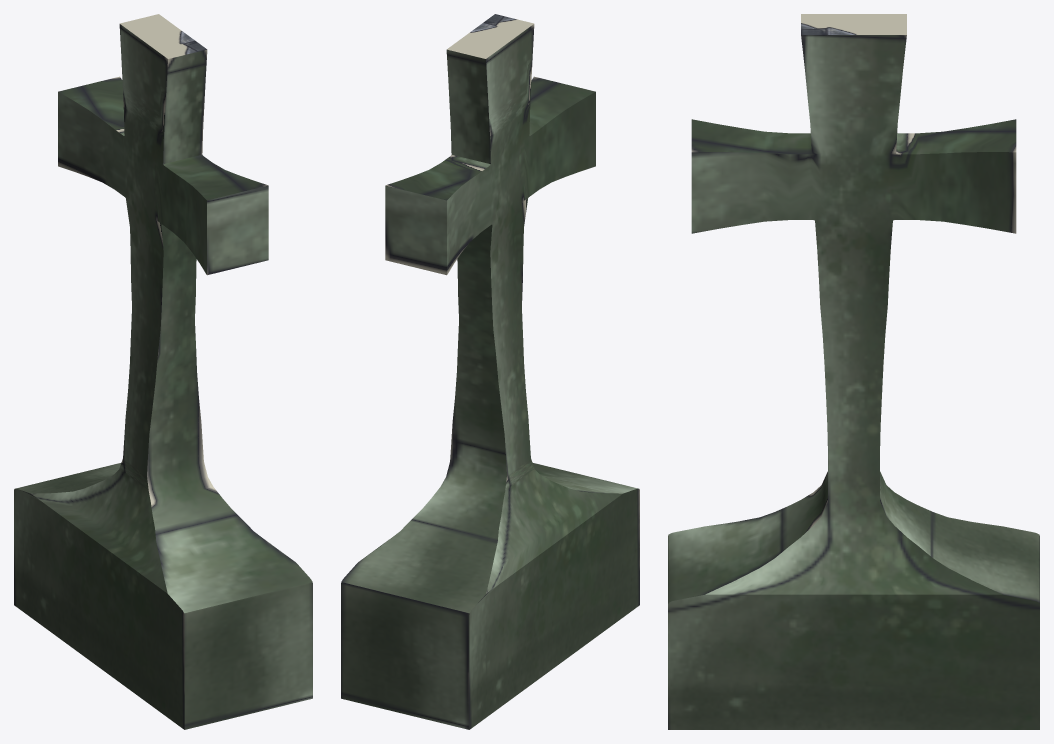
The model's file is gravestonesCrosssmall.fbx.
The picture shows the model from 3 angles, left to right: view 1: azimuth 30°, elevation 25°; view 2: azimuth 150°, elevation 25°; view 3: azimuth 270°, elevation 25°; orthographic projection. The views are drawn at different scales.
Visible parts, largest first — view 1: Gravestone4; view 2: Gravestone4; view 3: Gravestone4.
Part boxes in pixels (box(x1,y1,x2,y2)): Gravestone4: box(14, 14, 312, 729); Gravestone4: box(341, 14, 639, 729); Gravestone4: box(668, 14, 1039, 729).
Size of the model in its own units: 86.98 by 398 by 200.
Materials: 1 (1 with a texture image).
